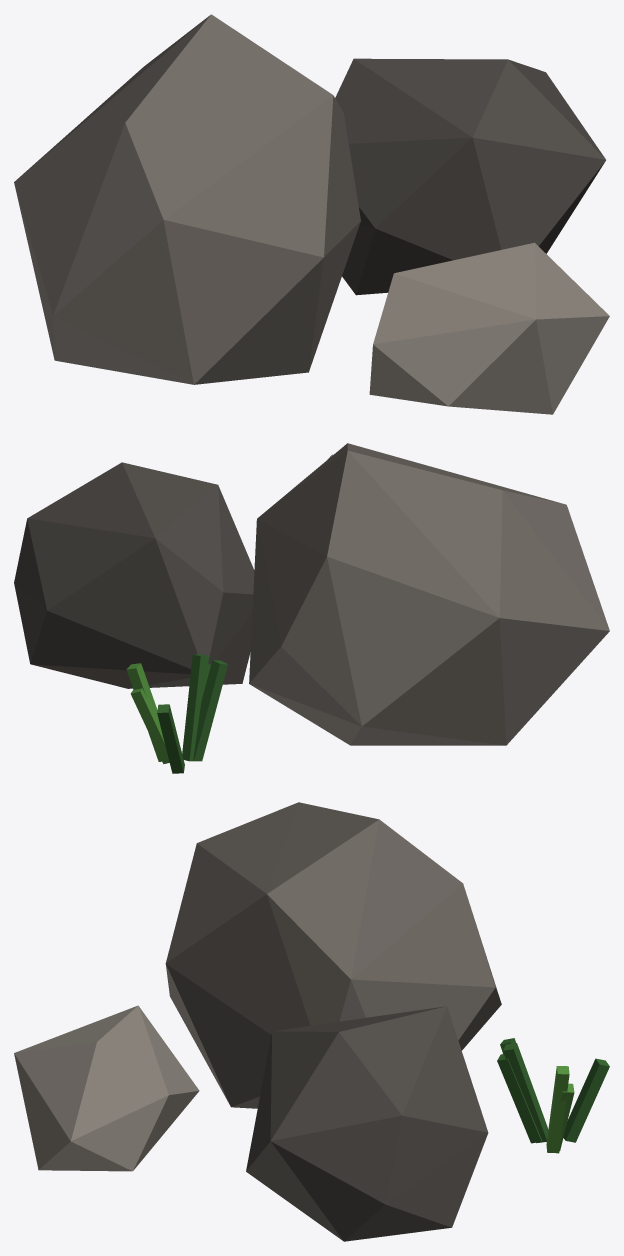
File: rocher_prairie_2.glb
3 views of the same model, one above another, from view 1: azimuth 30°, elevation 25°; view 2: azimuth 150°, elevation 25°; view 3: azimuth 270°, elevation 25° (orthographic). The views are drawn at different scales.
Parts seen in each view (by area): view 1: roche_pierre.012, roche_pierre_sombre.010, roche_pierre_claire.006; view 2: roche_pierre.012, roche_pierre_sombre.010, herbe_feuille_sombre.002, herbe_feuille.004; view 3: roche_pierre.012, roche_pierre_sombre.010, roche_pierre_claire.006, herbe_feuille_sombre.002, herbe_feuille.004.
Part boxes in pixels (x1,y1,x2,y2): roche_pierre.012: (14,14,360,384); roche_pierre_sombre.010: (335,58,605,295); roche_pierre_claire.006: (369,242,609,414); roche_pierre.012: (249,443,609,745); roche_pierre_sombre.010: (14,462,254,688); herbe_feuille_sombre.002: (157,654,227,773); herbe_feuille.004: (126,663,169,764); roche_pierre.012: (165,802,501,1108); roche_pierre_sombre.010: (246,1006,488,1241); roche_pierre_claire.006: (14,1005,199,1171); herbe_feuille_sombre.002: (497,1038,609,1143); herbe_feuille.004: (546,1066,574,1153).
Size of the model in its own units: 0.9292 by 0.4559 by 0.8705.
